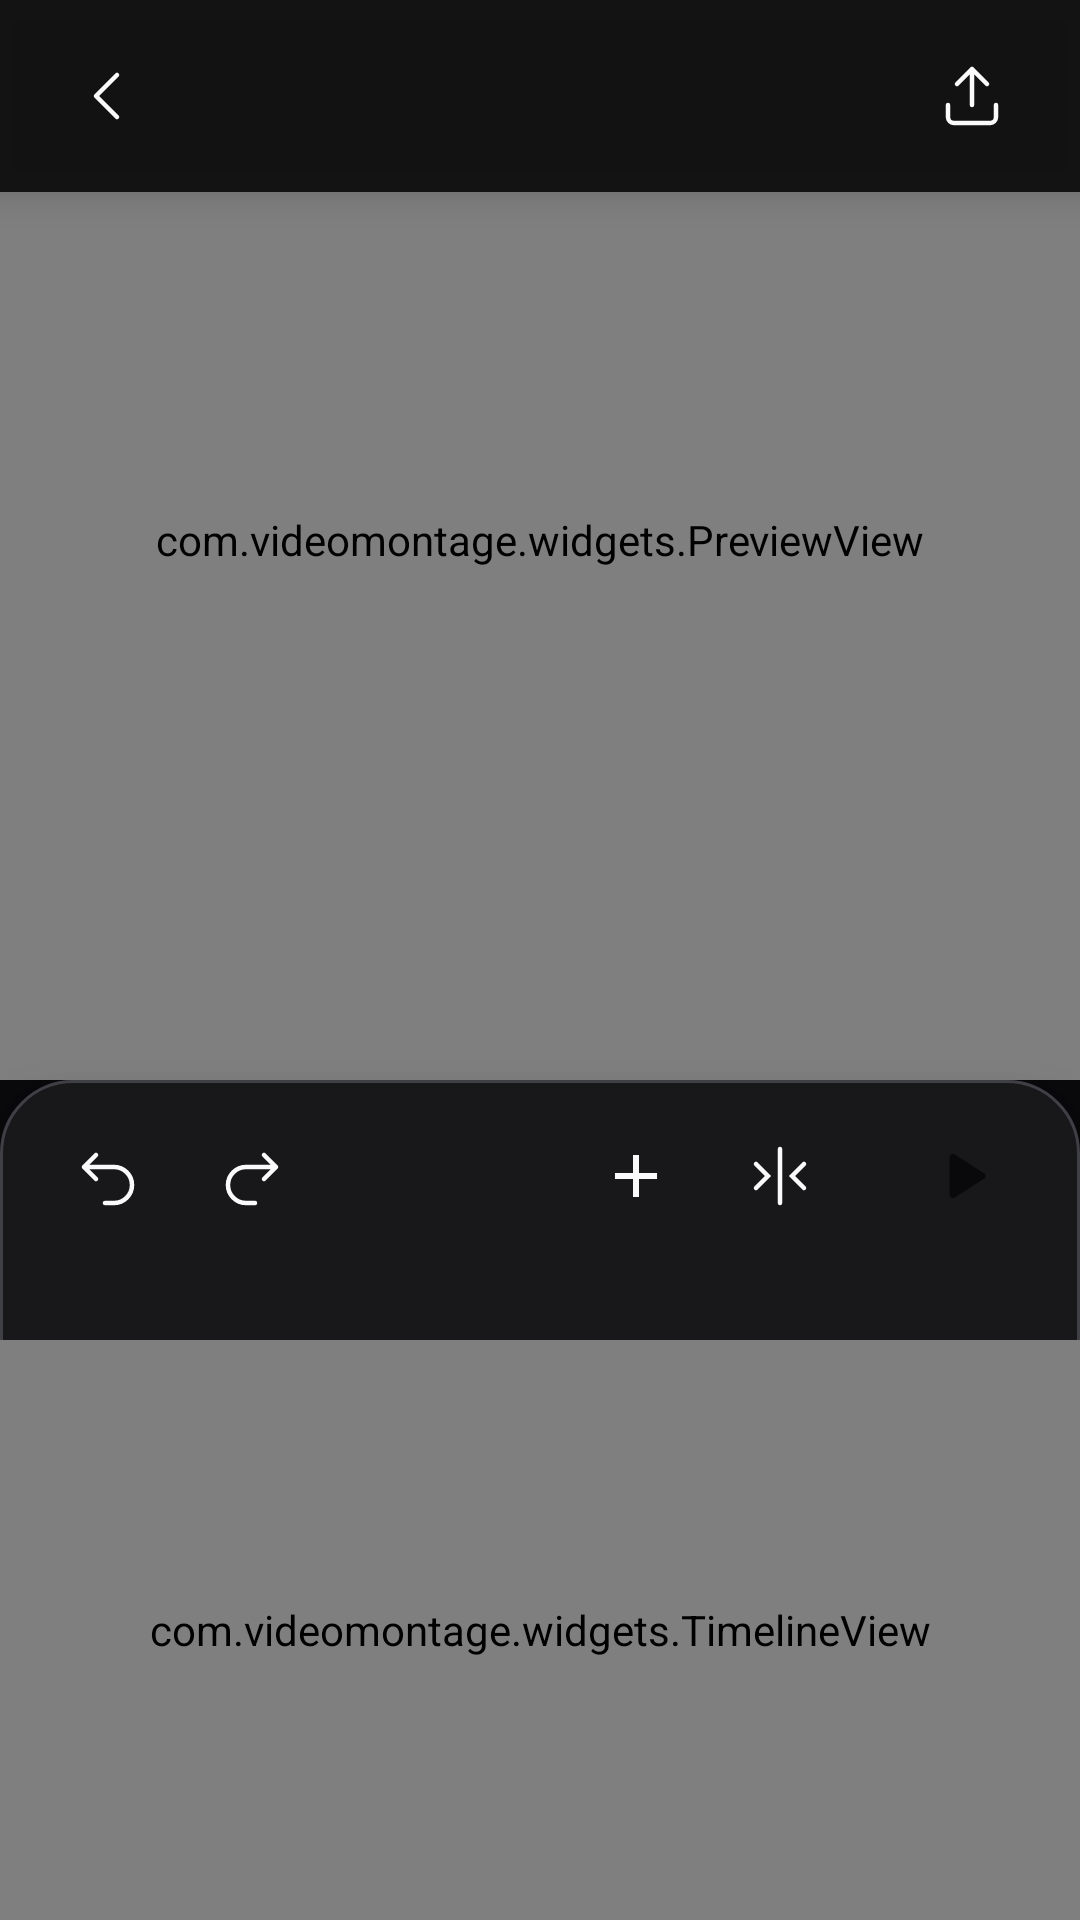

Where icons sit on this 1080px x 1920px app screen, as rect(x1, y1, x2, y2):
Redo: rect(225, 1152, 279, 1206)
Split: rect(753, 1146, 807, 1206)
Undo: rect(81, 1152, 135, 1206)
